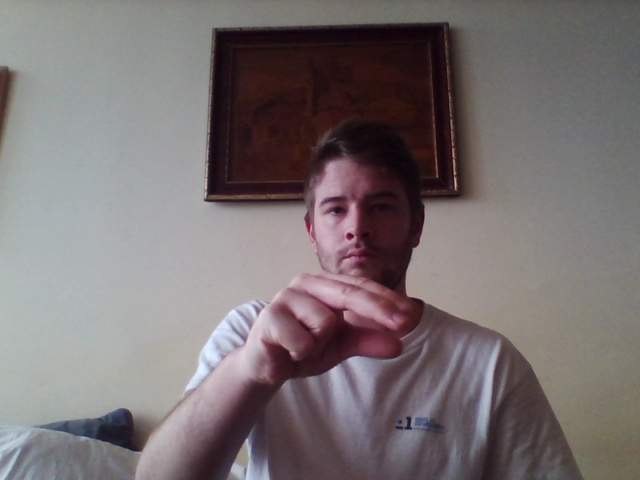ne: (250, 269, 416, 397)
